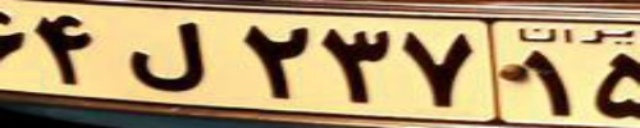1: (520, 51, 572, 117)
2: (243, 24, 307, 100)
3: (319, 26, 391, 104)
4: (35, 14, 95, 87)
5: (585, 52, 638, 120)
6: (0, 9, 27, 97)
7: (400, 30, 474, 108)
lam: (123, 19, 205, 93)
